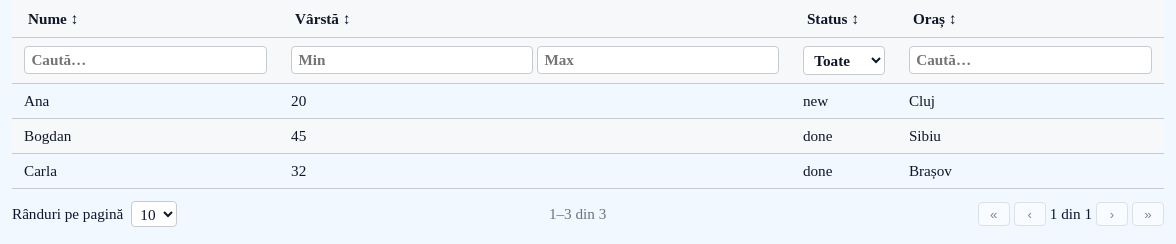
Test: URL-backed DataTable — single table › round-trips a nested dotted-path filter
Type "Sibiu" into the search field named "Filtrează Oraș". click: (1030, 60)
box: [909,46,1152,74]
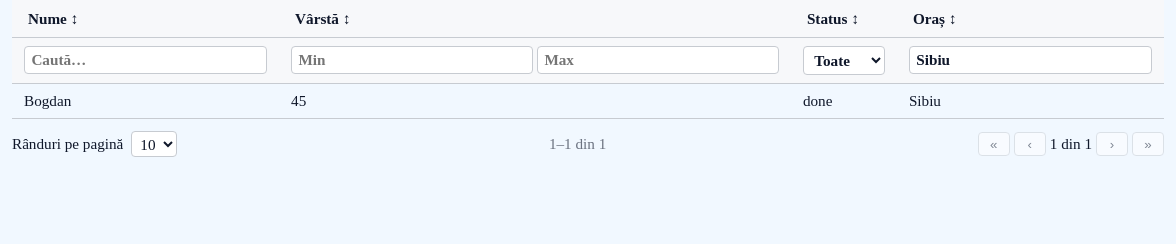
Check: the cell "Bogdan" is shown, box [12,84,279,119]
Check: the cell "Ana" is gone
